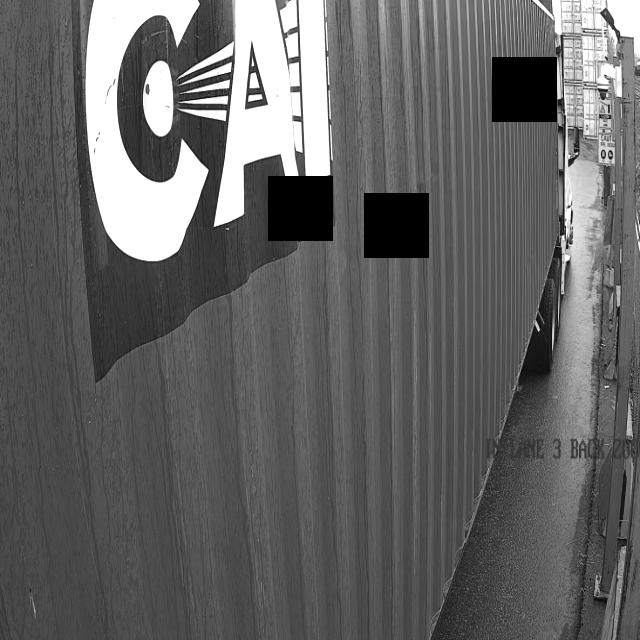container_company_logo: (59, 0, 415, 300)
truck_with_container: (0, 0, 570, 640)
